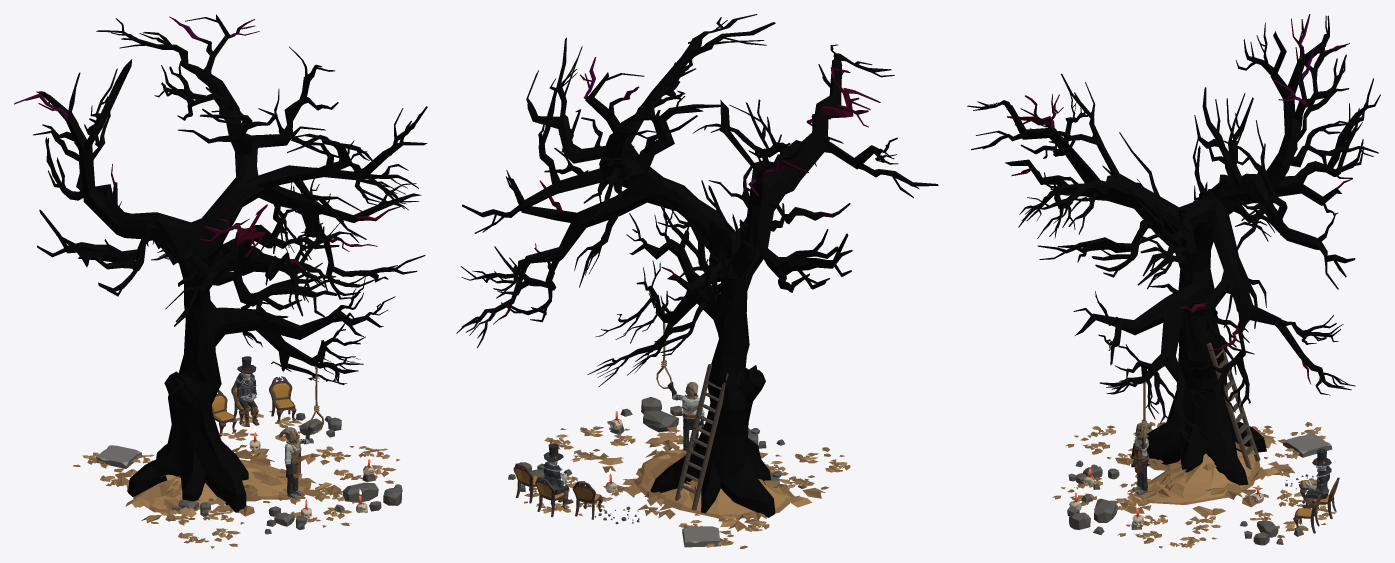
File: hanging.glb
The picture shows the model from 3 angles, left to right: view 1: azimuth 30°, elevation 25°; view 2: azimuth 150°, elevation 25°; view 3: azimuth 270°, elevation 25°; orthographic projection. The views are drawn at different scales.
Parts seen in each view (by area): view 1: SM_Env_Tree_Large_Twisted_01.002, SM_Env_Leaves_Pile_01.002, SM_Env_Pebbles_01.003, SM_Chr_Butcher_01.004, SM_Env_Leaves_01.008, SM_Env_Leaves_01.006, SM_Chr_Count_01.004, SM_Prop_Chair_03.002, SM_Env_SteppingStone_02.001, SM_Env_Leaves_01.007, SM_Env_Leaves_01.005, SM_Env_Pebbles_01.002 (+2 smaller); view 2: SM_Env_Tree_Large_Twisted_01.002, SM_Env_Leaves_Pile_01.002, SM_Prop_Ladder_01.001, SM_Env_Pebbles_01.003, SM_Chr_Butcher_01.004, SM_Env_Leaves_01.006, SM_Env_Leaves_01.008, SM_Env_SteppingStone_02.001, SM_Chr_Count_01.004, SM_Prop_Chair_03.003, SM_Env_Leaves_01.009; view 3: SM_Env_Tree_Large_Twisted_01.002, SM_Env_Leaves_Pile_01.002, SM_Prop_Ladder_01.001, SM_Env_Pebbles_01.003, SM_Chr_Butcher_01.004, SM_Env_Leaves_01.006, SM_Env_Leaves_01.005, SM_Env_SteppingStone_02.001, SM_Chr_Count_01.004, SM_Env_Pebbles_01.002, SM_Env_Leaves_01.007, SM_Env_Leaves_01.008 (+1 smaller).
Part boxes in pixels (x1,y1,x2,y2): SM_Env_Tree_Large_Twisted_01.002: [14, 14, 427, 512]; SM_Env_Leaves_Pile_01.002: [114, 446, 342, 522]; SM_Env_Pebbles_01.003: [334, 474, 402, 512]; SM_Chr_Butcher_01.004: [278, 426, 314, 499]; SM_Env_Leaves_01.008: [151, 509, 244, 548]; SM_Env_Leaves_01.006: [316, 446, 399, 483]; SM_Chr_Count_01.004: [236, 372, 259, 426]; SM_Prop_Chair_03.002: [269, 376, 296, 422]; SM_Env_SteppingStone_02.001: [95, 445, 141, 468]; SM_Env_Leaves_01.007: [263, 488, 355, 527]; SM_Env_Leaves_01.005: [220, 410, 315, 447]; SM_Env_Pebbles_01.002: [296, 413, 341, 443]; SM_Env_Tree_Large_Twisted_01.002: [456, 14, 938, 517]; SM_Env_Leaves_Pile_01.002: [595, 426, 825, 534]; SM_Prop_Ladder_01.001: [675, 364, 728, 510]; SM_Env_Pebbles_01.003: [610, 397, 703, 434]; SM_Chr_Butcher_01.004: [667, 381, 704, 450]; SM_Env_Leaves_01.006: [544, 421, 635, 462]; SM_Env_Leaves_01.008: [766, 447, 850, 489]; SM_Env_SteppingStone_02.001: [682, 526, 720, 547]; SM_Chr_Count_01.004: [543, 455, 573, 504]; SM_Prop_Chair_03.003: [572, 481, 602, 519]; SM_Env_Leaves_01.009: [678, 513, 769, 548]; SM_Env_Tree_Large_Twisted_01.002: [967, 14, 1380, 485]; SM_Env_Leaves_Pile_01.002: [1110, 422, 1294, 521]; SM_Prop_Ladder_01.001: [1206, 342, 1260, 469]; SM_Env_Pebbles_01.003: [1067, 494, 1141, 534]; SM_Chr_Butcher_01.004: [1132, 422, 1152, 495]; SM_Env_Leaves_01.006: [1117, 514, 1221, 548]; SM_Env_Leaves_01.005: [1250, 489, 1336, 538]; SM_Env_SteppingStone_02.001: [1283, 432, 1332, 457]; SM_Chr_Count_01.004: [1302, 462, 1331, 508]; SM_Env_Pebbles_01.002: [1240, 521, 1303, 545]; SM_Env_Leaves_01.007: [1052, 474, 1151, 510]; SM_Env_Leaves_01.008: [1065, 422, 1155, 459].
Bounding box in the file's own units: 10.53 × 11.87 × 10.21.
Materials: 4 (3 with a texture image).
